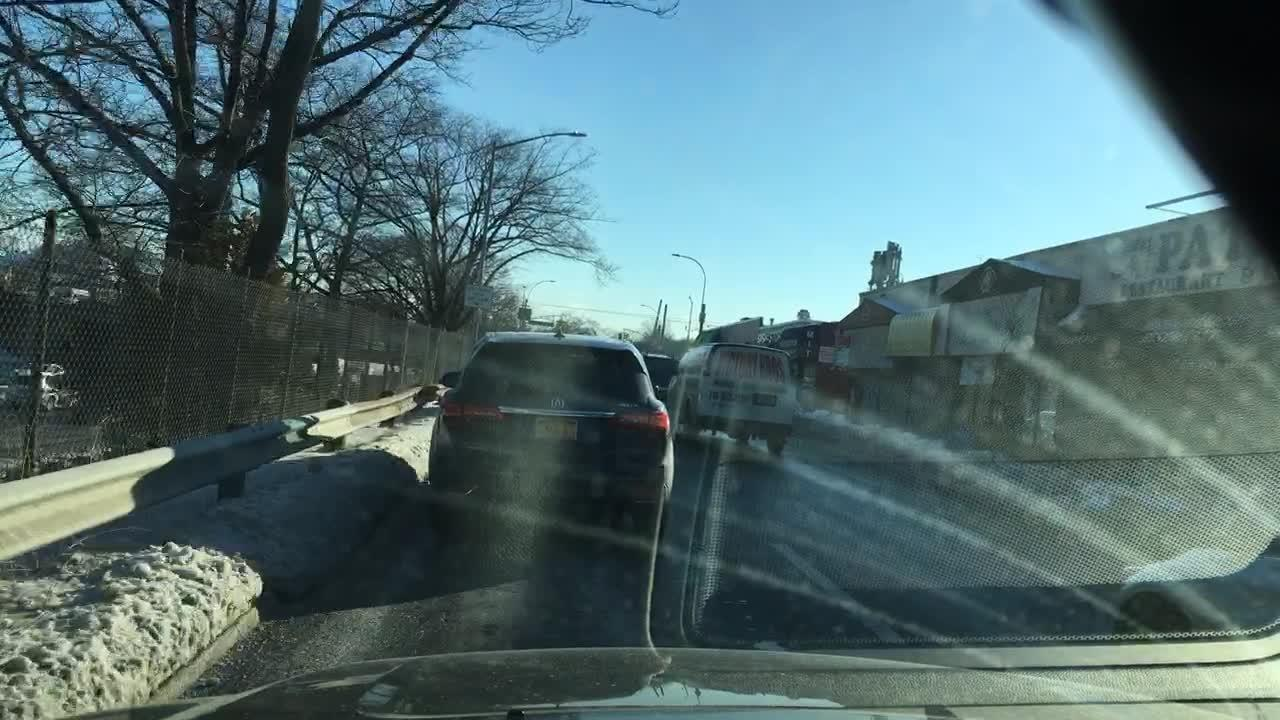acura: (548, 393, 568, 412)
